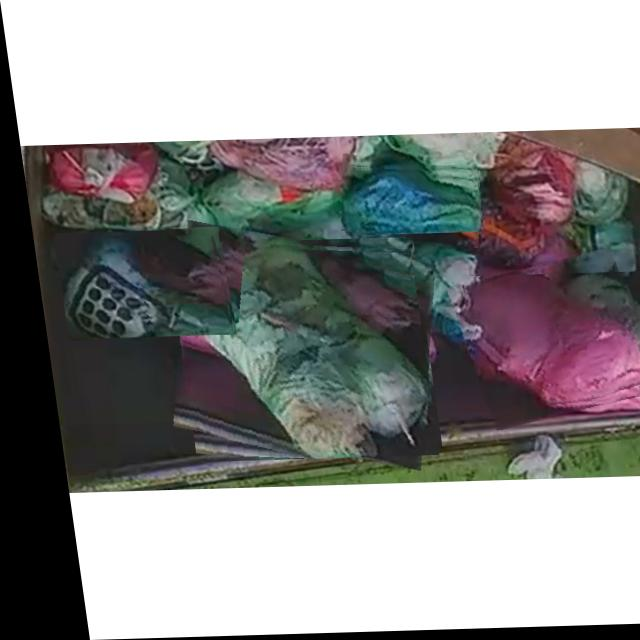general_trashbag: (176, 244, 418, 459), (55, 235, 223, 338), (336, 170, 475, 236)
other_trashbag: (458, 278, 640, 407)
